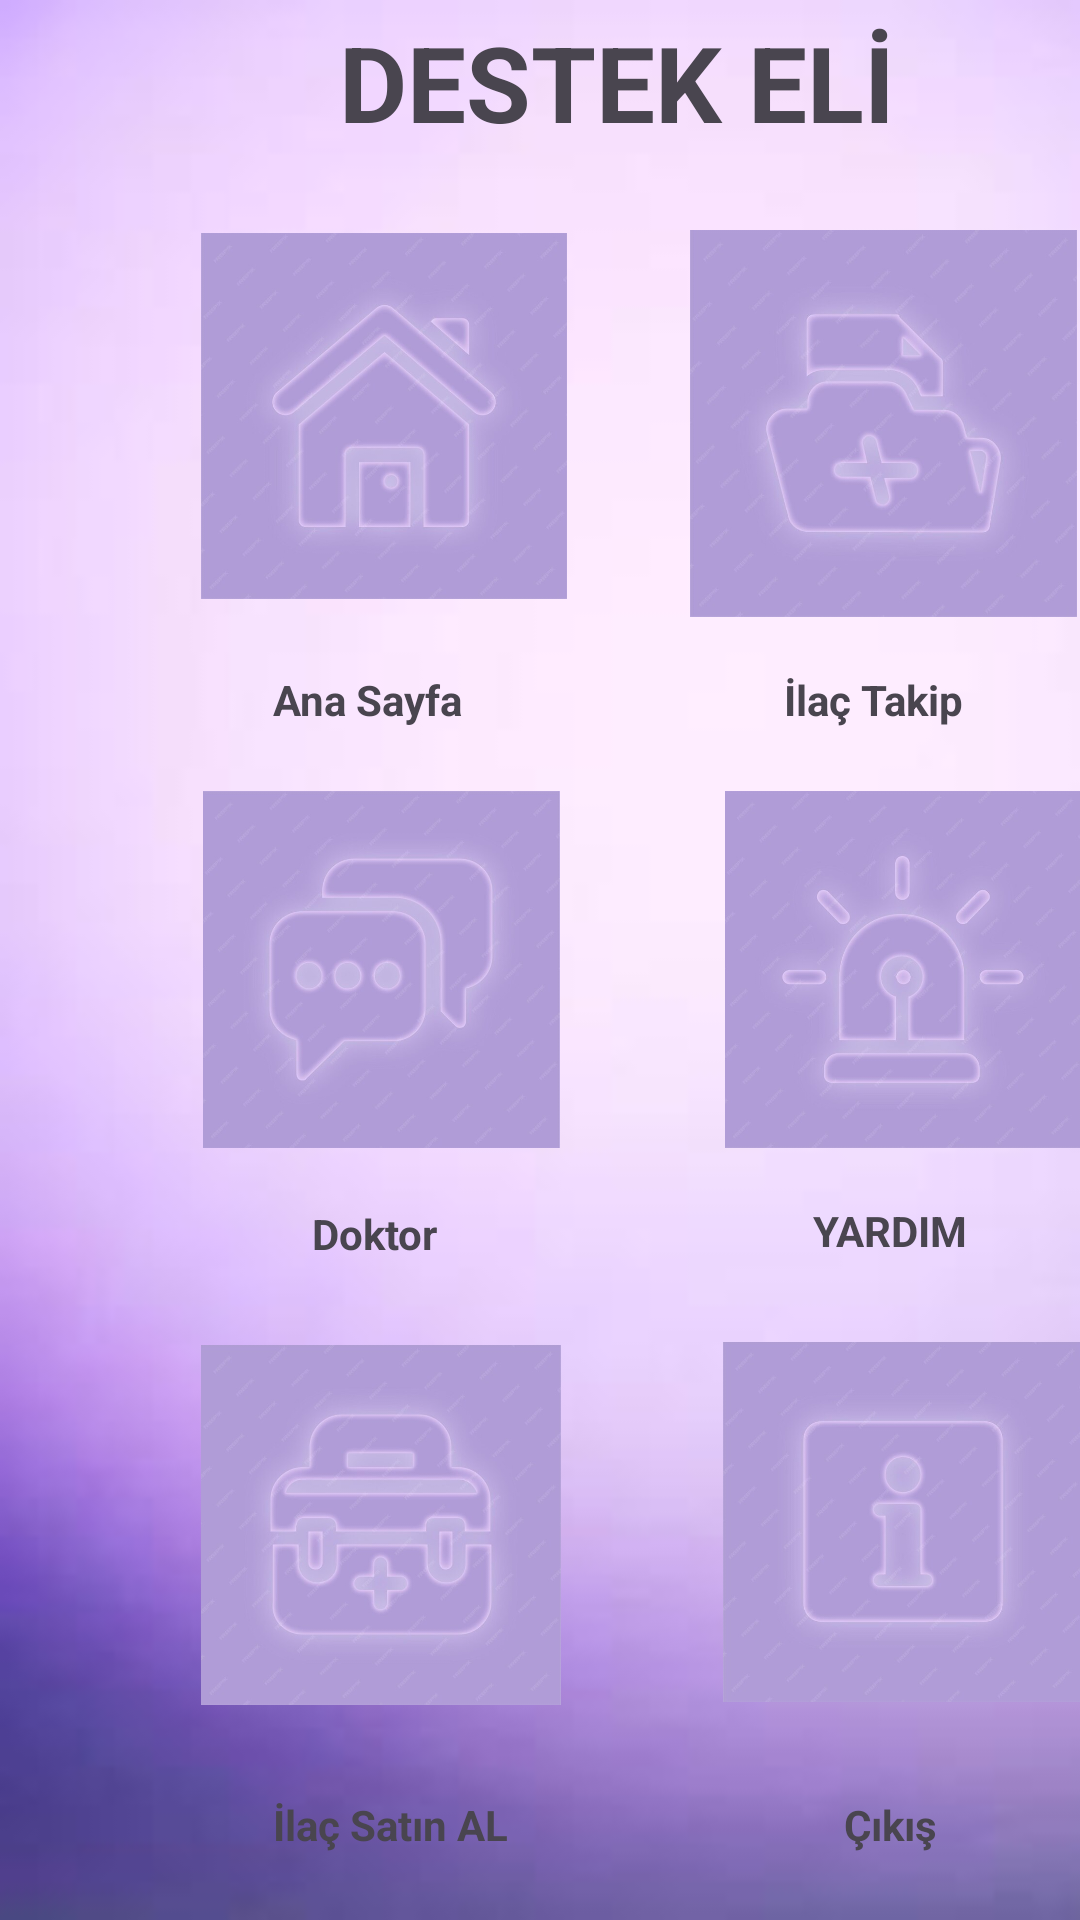

Screen size 1080px×1920px. Icon name, then its box in pixels as (x1,y1,x2,y2):
alert: (725,791,1080,1148)
doctorchat: (201,791,560,1148)
